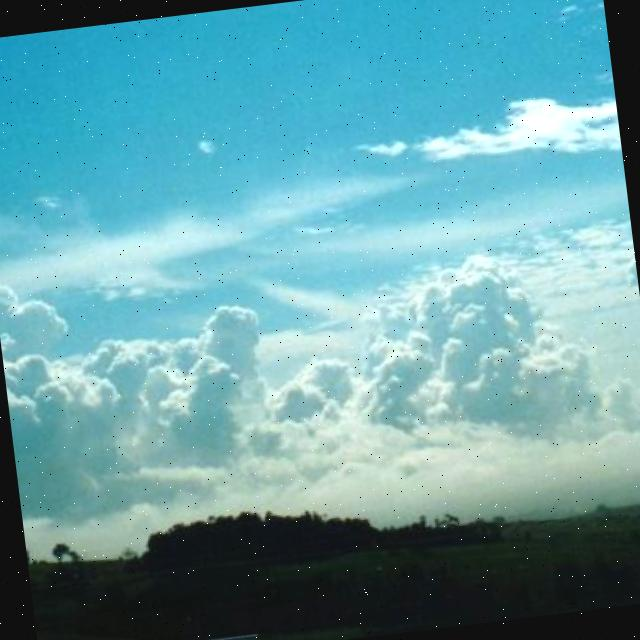Ci: (1, 35, 640, 509)
